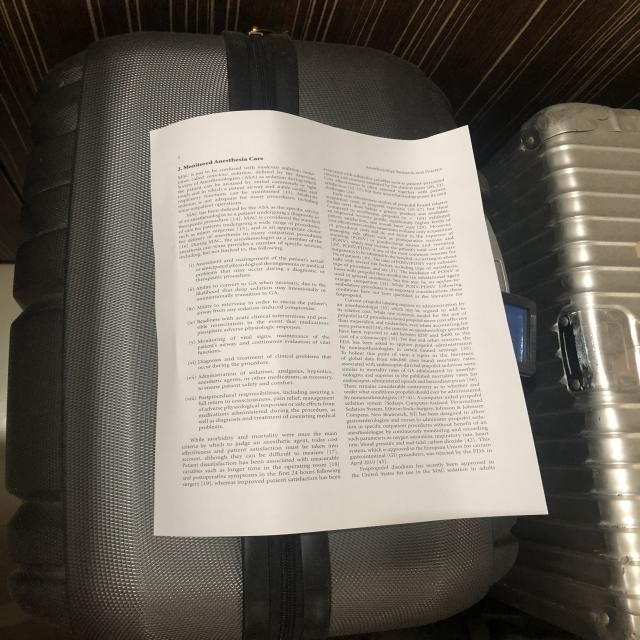document: (150, 110, 547, 536)
